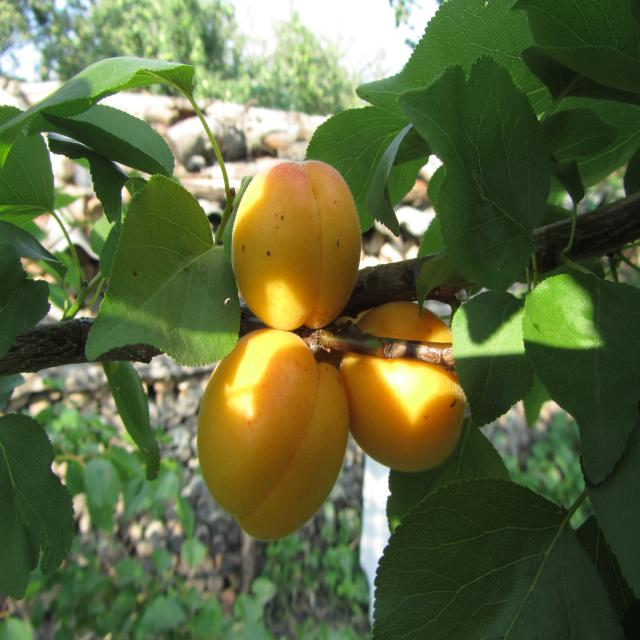kayisi: (219, 329, 346, 552), (236, 158, 361, 328), (351, 304, 470, 471)
yaprak: (394, 483, 607, 640), (417, 74, 543, 291), (108, 182, 236, 384), (529, 4, 640, 189), (549, 268, 640, 468), (0, 380, 78, 600), (40, 46, 175, 173)
